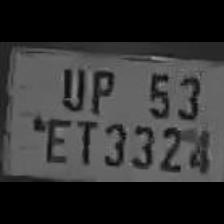2: (156, 122, 183, 172)
3: (172, 68, 202, 120), (98, 116, 128, 168), (128, 119, 154, 170)
4: (184, 122, 210, 174)
5: (144, 68, 173, 118)
E: (39, 113, 71, 166)
P: (84, 64, 118, 112)
T: (70, 114, 98, 168)
U: (55, 61, 87, 112)
